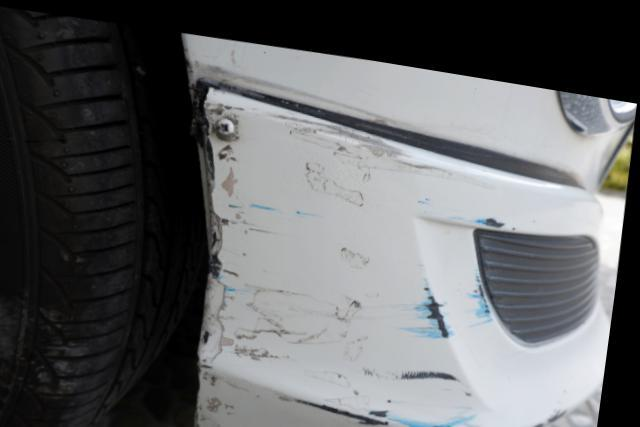scratch: (202, 82, 575, 427)
